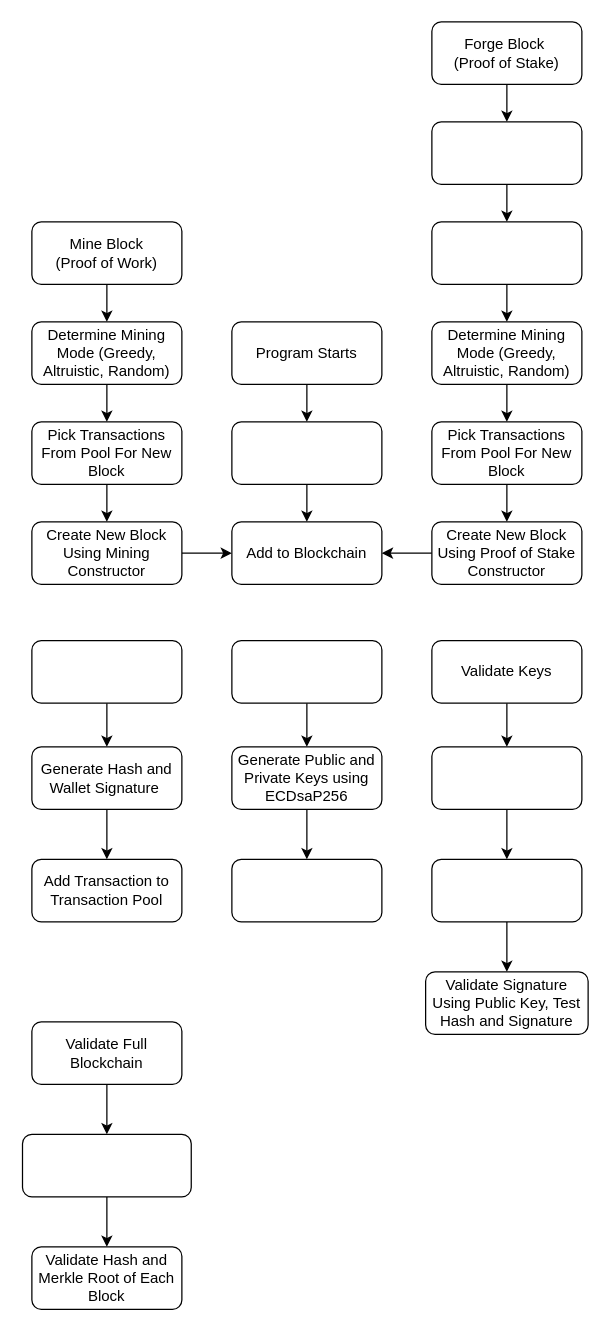
Some shapes in this 610 by 1331 pixel diagram are drawn without their labels. The box of each missing label's shape, as (x1, y1, x2, y2) in pixels:
Calculate Stakes Dict Containing Addresses and Balances: (431, 121, 582, 184)
Check That Each Block's prevHash is The Next Block's Hash: (21, 1133, 191, 1197)
Create Genesis Block: (231, 421, 382, 484)
Create New Transaction: (31, 639, 182, 703)
Create Signature Using Keys and Test Hash: (431, 858, 582, 922)
Create Test Hash: (431, 746, 582, 809)
Generate New Wallet: (231, 639, 382, 703)
Show Keys in UI: (231, 858, 382, 922)
Shuffle Stakes and Pick Validator: (431, 221, 582, 284)
